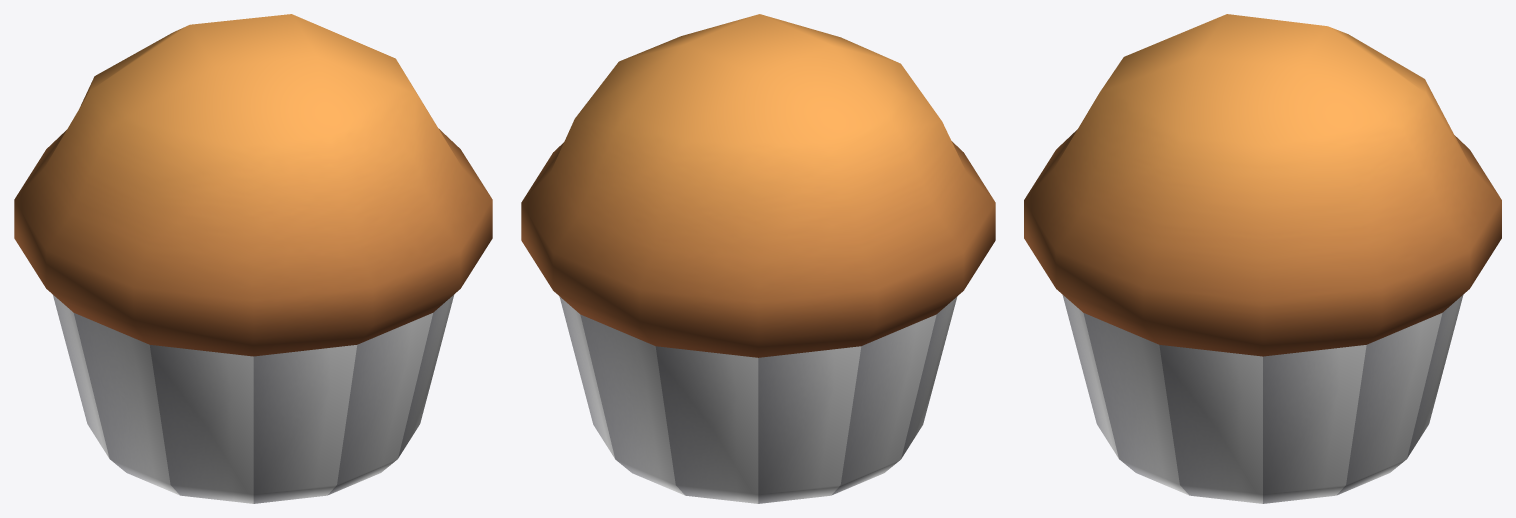
Rendered from m_Cupcake01.fbx.
The picture shows the model from 3 angles, left to right: view 1: azimuth 30°, elevation 25°; view 2: azimuth 150°, elevation 25°; view 3: azimuth 270°, elevation 25°; orthographic projection.
Visible parts, largest first — view 1: m_Cupcake01; view 2: m_Cupcake01; view 3: m_Cupcake01.
Boxes of the visible parts, x1,y1,x2,y2 form: m_Cupcake01: (14, 14, 492, 503); m_Cupcake01: (521, 14, 995, 503); m_Cupcake01: (1024, 14, 1501, 503).
Size of the model in its own units: 11.39 by 10.53 by 11.39.
